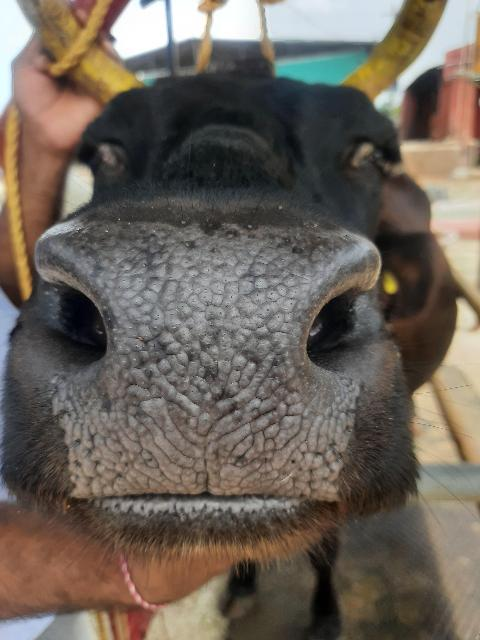Muzzle: (108, 233, 302, 482)
